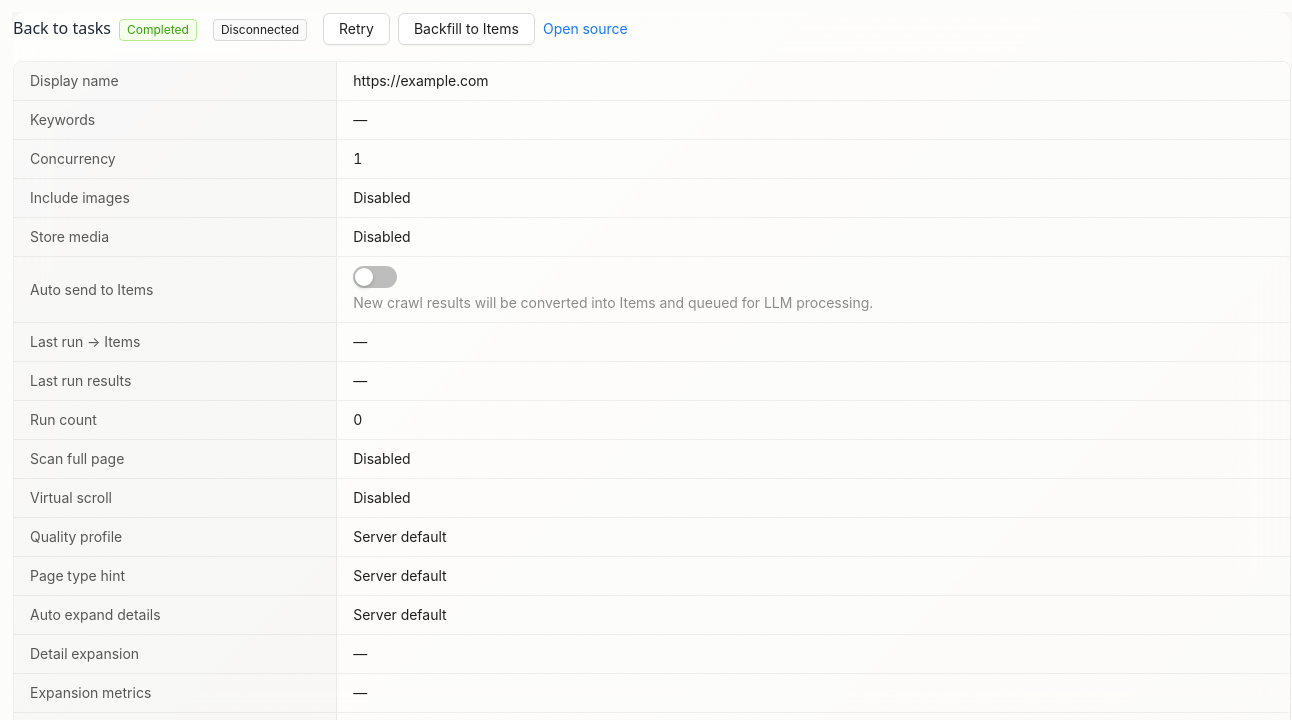
CrawlTaskDetail actions（retry / ingest / backfill / create item） › backfill 部分失败：warning notice（文案与全失败一致，仅类型不同）
Expected: the text "Concurrency" is shown, top-left (30, 150), bottom-right (116, 167)
Click the button "Backfill to Items". click: (466, 29)
box: top-left (398, 13), bottom-right (535, 45)
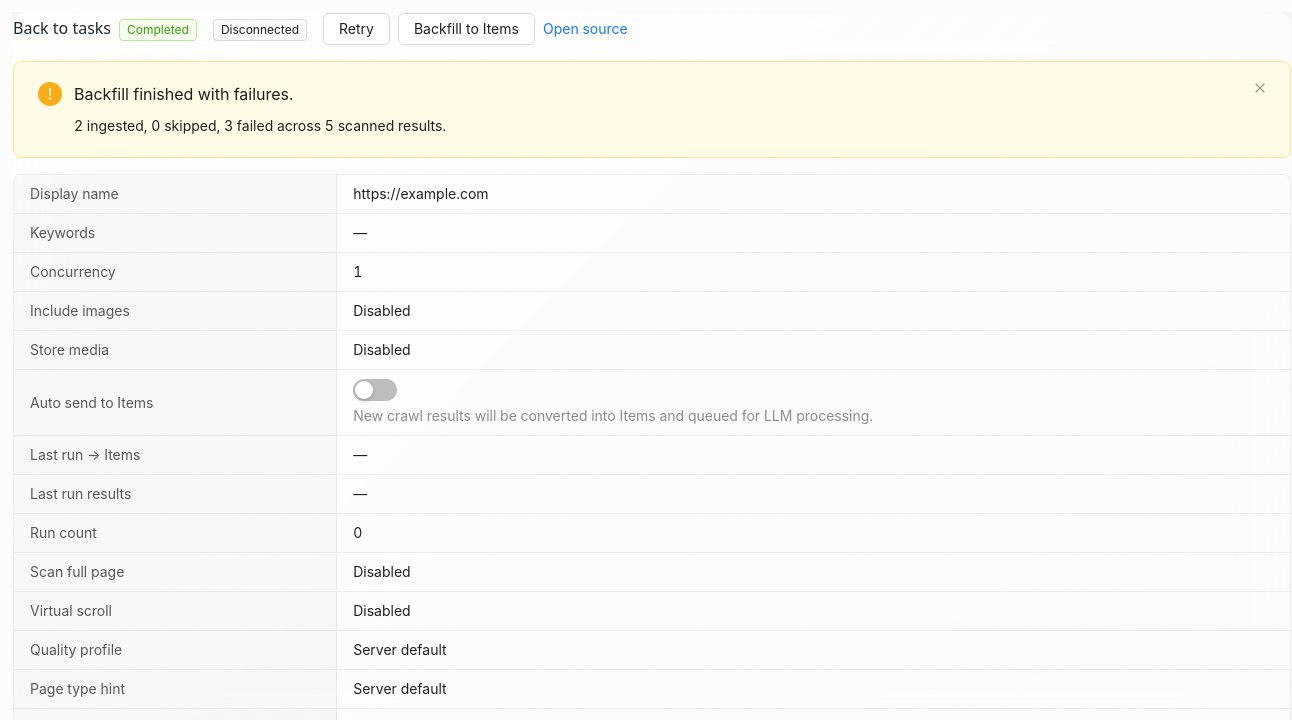
Expected: the message is shown, top-left (13, 61), bottom-right (1291, 158)
Expected: the text "Backfill finished with failures." is shown, top-left (74, 84), bottom-right (293, 104)
